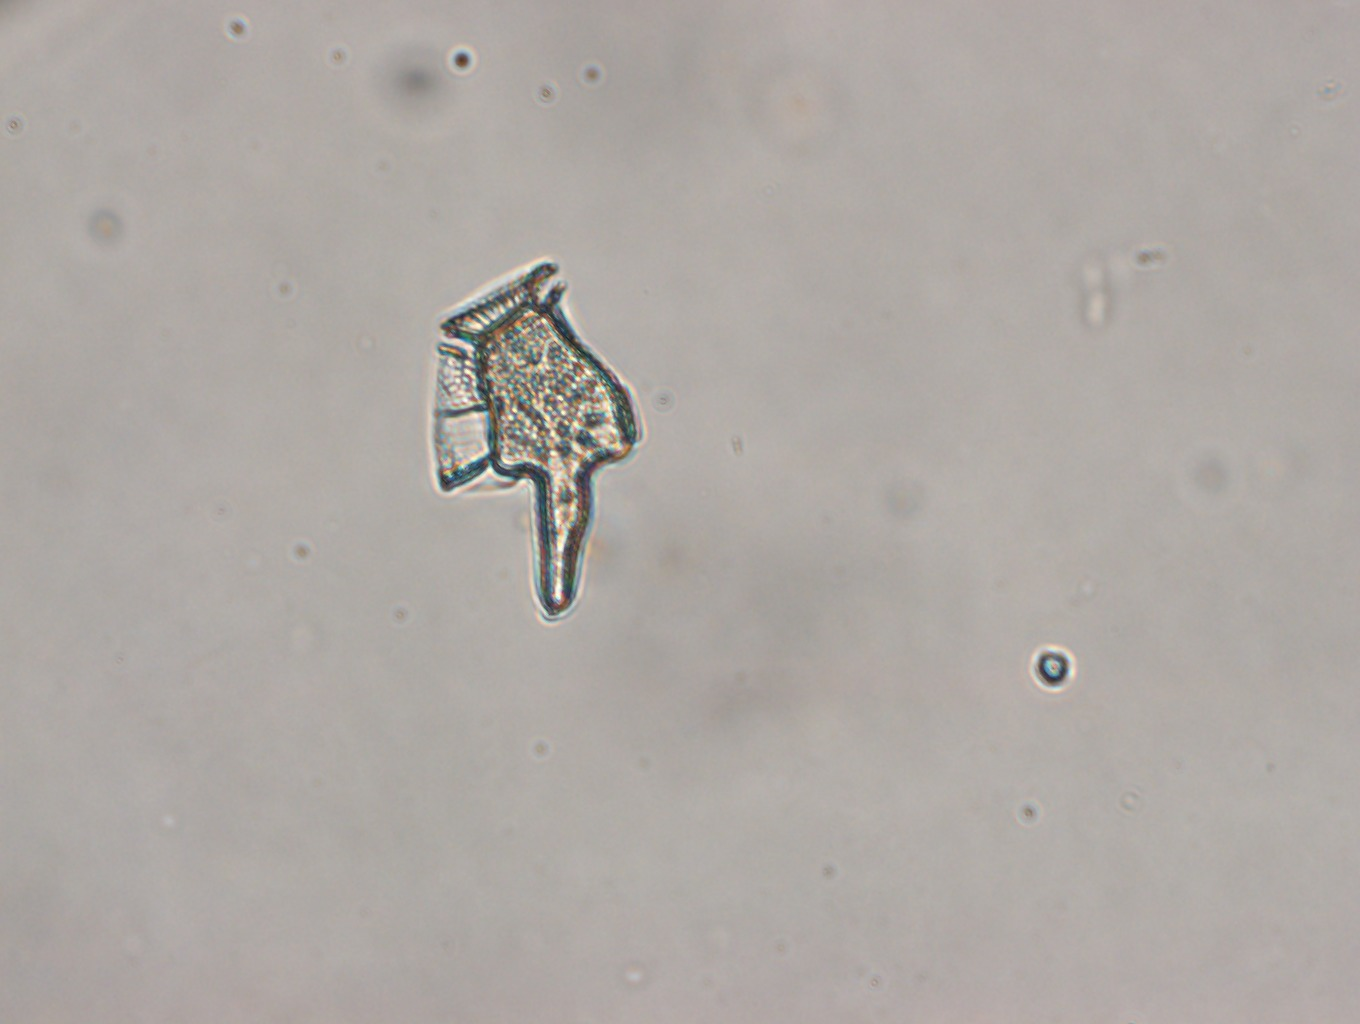dinophysis caudata: (431, 258, 645, 622)
